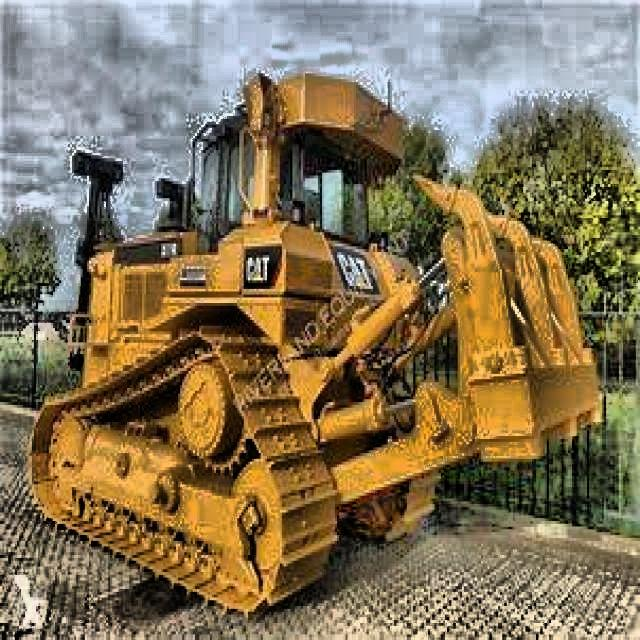bull_dozer/loader/grader: (23, 45, 600, 623)
